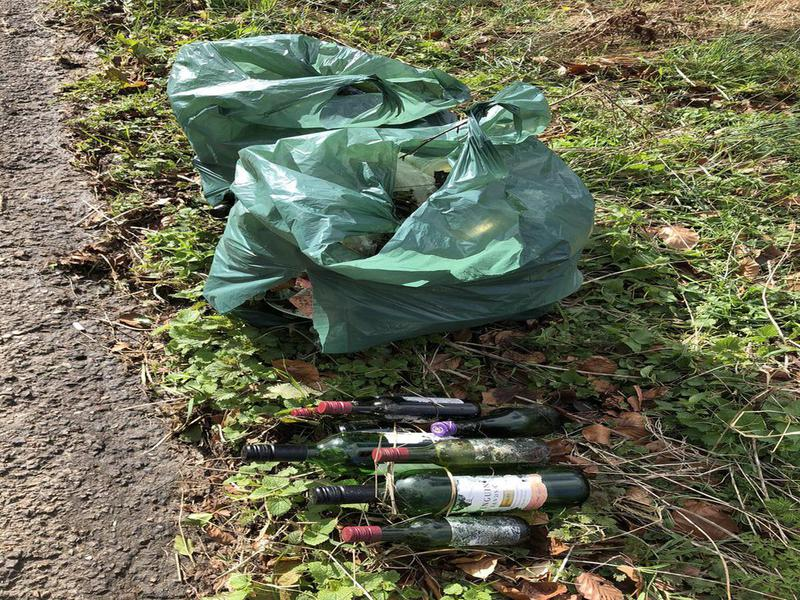bottle: (307, 466, 590, 511), (334, 514, 537, 554), (370, 433, 557, 470), (315, 391, 486, 427), (425, 404, 569, 435)
plastic: (130, 34, 590, 352)
